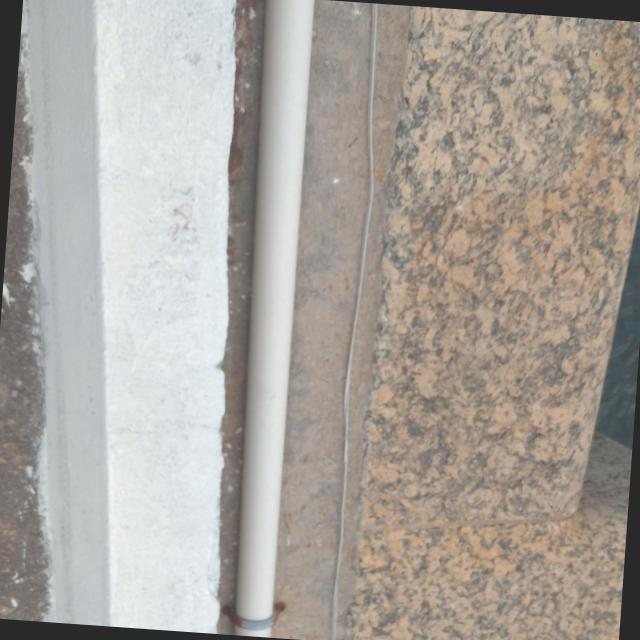gas: (213, 0, 324, 638)
